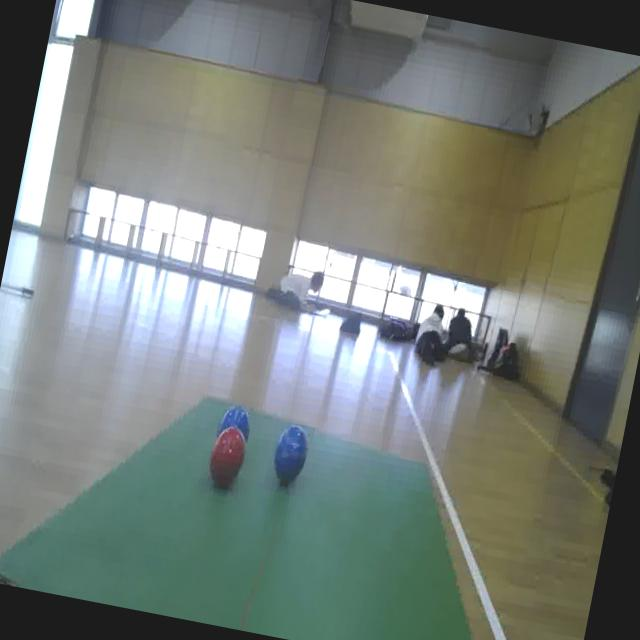blue_ball: (268, 419, 311, 487), (214, 399, 260, 449)
red_ball: (205, 428, 252, 490)
